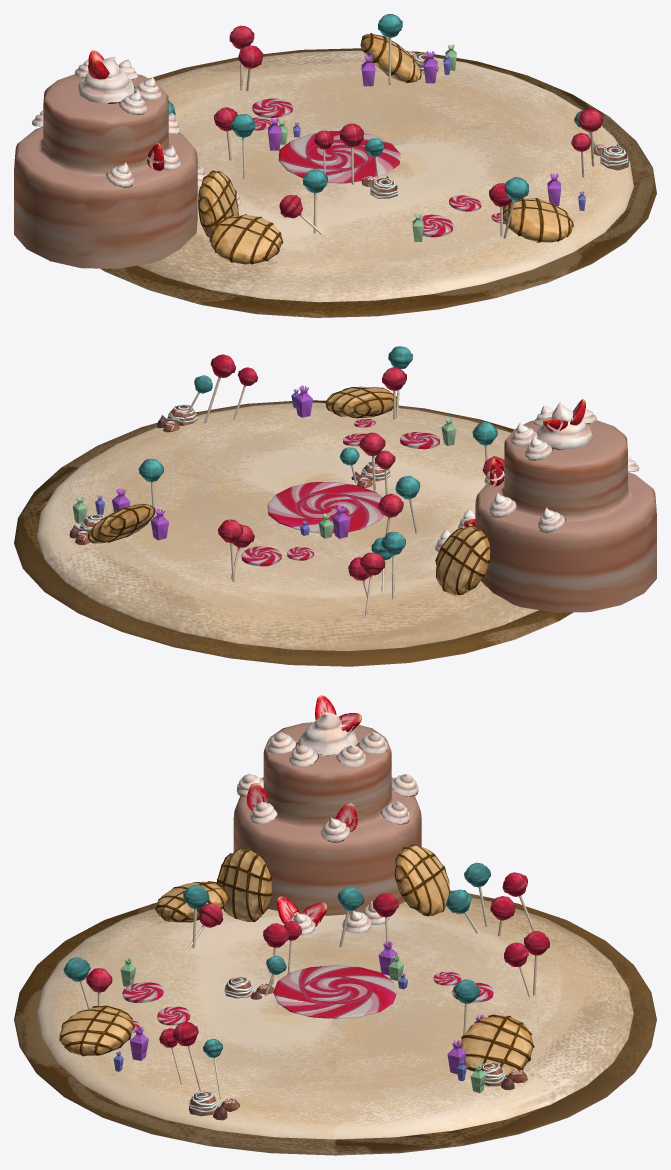
The model's file is Mapa_V4 1.fbx.
The picture shows the model from 3 angles, top to bottom: view 1: azimuth 30°, elevation 25°; view 2: azimuth 150°, elevation 25°; view 3: azimuth 270°, elevation 25°; orthographic projection. The views are drawn at different scales.
Visible parts, largest first — view 1: Plano_Tierra.001, Patel_Princ, Caramelo_Piso_2.006, tgsd_10_05_001_tgsd_10_1.002, tgsd_10_05_001_tgsd_10_1.005, tgsd_10_05_001_tgsd_10_1.001, tgsd_10_05_001_tgsd_10_1.003, tgsd_05_04_002_road_tgsd_05.002, tgsd_05_06_001_road_tgsd_05.001, Caramelo_Piso_2.004, tgsd_05_04_002_road_tgsd_05.005, tgsd_05_04_002_road_tgsd_05.001 (+15 smaller); view 2: Plano_Tierra.001, Patel_Princ, Caramelo_Piso_2.006, tgsd_10_05_001_tgsd_10_1.004, tgsd_10_05_001_tgsd_10_1.005, tgsd_10_05_001_tgsd_10_1.003, tgsd_05_04_002_road_tgsd_05.002, tgsd_05_06_001_road_tgsd_05.001, Caramelo_Piso_2.004, tgsd_05_04_002_road_tgsd_05.005, tgsd_05_04_002_road_tgsd_05.001, Paleta_6.017 (+16 smaller); view 3: Plano_Tierra.001, Patel_Princ, Caramelo_Piso_2.006, tgsd_10_05_001_tgsd_10_1.003, tgsd_10_05_001_tgsd_10_1.001, tgsd_10_05_001_tgsd_10_1.004, tgsd_10_05_001_tgsd_10_1.005, tgsd_05_04_002_road_tgsd_05.002, tgsd_10_05_001_tgsd_10_1.002, tgsd_05_04_002_road_tgsd_05.005, tgsd_05_06_001_road_tgsd_05.001, tgsd_05_04_002_road_tgsd_05.001 (+7 smaller).
Boxes of the visible parts, box(x1,y1,x2,y2) form: Plano_Tierra.001: box(100, 48, 656, 317); Patel_Princ: box(14, 74, 197, 268); Caramelo_Piso_2.006: box(278, 131, 400, 183); tgsd_10_05_001_tgsd_10_1.002: box(209, 214, 283, 264); tgsd_10_05_001_tgsd_10_1.005: box(503, 198, 573, 242); tgsd_10_05_001_tgsd_10_1.001: box(198, 170, 238, 236); tgsd_10_05_001_tgsd_10_1.003: box(360, 33, 421, 82); tgsd_05_04_002_road_tgsd_05.002: box(77, 57, 134, 103); tgsd_05_06_001_road_tgsd_05.001: box(593, 144, 628, 170); Caramelo_Piso_2.004: box(252, 98, 292, 117); tgsd_05_04_002_road_tgsd_05.005: box(119, 59, 161, 99); tgsd_05_04_002_road_tgsd_05.001: box(74, 59, 147, 114); Plano_Tierra.001: box(14, 400, 573, 666); Patel_Princ: box(475, 420, 656, 612); Caramelo_Piso_2.006: box(267, 482, 384, 533); tgsd_10_05_001_tgsd_10_1.004: box(435, 525, 490, 595); tgsd_10_05_001_tgsd_10_1.005: box(325, 386, 396, 418); tgsd_10_05_001_tgsd_10_1.003: box(88, 504, 155, 543); tgsd_05_04_002_road_tgsd_05.002: box(536, 401, 593, 449); tgsd_05_06_001_road_tgsd_05.001: box(157, 404, 197, 432); Caramelo_Piso_2.004: box(241, 546, 281, 566); tgsd_05_04_002_road_tgsd_05.005: box(511, 405, 553, 445); tgsd_05_04_002_road_tgsd_05.001: box(525, 407, 596, 460); Paleta_6.017: box(204, 354, 235, 422); Plano_Tierra.001: box(14, 890, 656, 1155); Patel_Princ: box(233, 722, 421, 915); Caramelo_Piso_2.006: box(273, 965, 397, 1018); tgsd_10_05_001_tgsd_10_1.003: box(460, 1014, 534, 1077); tgsd_10_05_001_tgsd_10_1.001: box(217, 847, 272, 922); tgsd_10_05_001_tgsd_10_1.004: box(394, 844, 450, 916); tgsd_10_05_001_tgsd_10_1.005: box(59, 1005, 134, 1056); tgsd_05_04_002_road_tgsd_05.002: box(297, 712, 358, 755); tgsd_10_05_001_tgsd_10_1.002: box(155, 881, 229, 922); tgsd_05_04_002_road_tgsd_05.005: box(289, 744, 366, 766); tgsd_05_06_001_road_tgsd_05.001: box(188, 1091, 240, 1120); tgsd_05_04_002_road_tgsd_05.001: box(267, 732, 387, 753).
Size of the model in its own units: 5789 by 1848 by 5336.
Materials: 13 (10 with a texture image).
